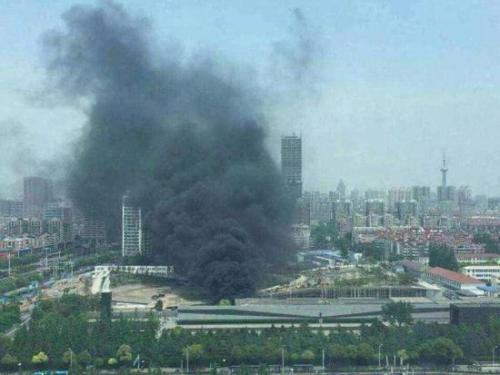smoke: (71, 38, 294, 292)
